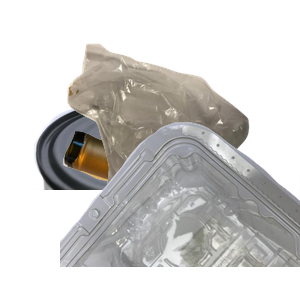glass: (60, 128, 300, 300)
metal: (16, 96, 244, 276)
plastic: (60, 120, 300, 300)
trash: (65, 41, 300, 221)
